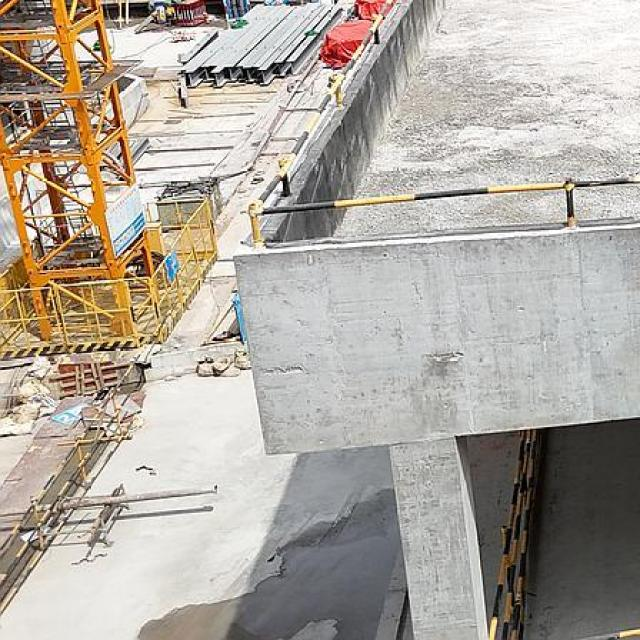edge_guardrail: (247, 0, 640, 243), (488, 427, 538, 640), (574, 627, 640, 640)
